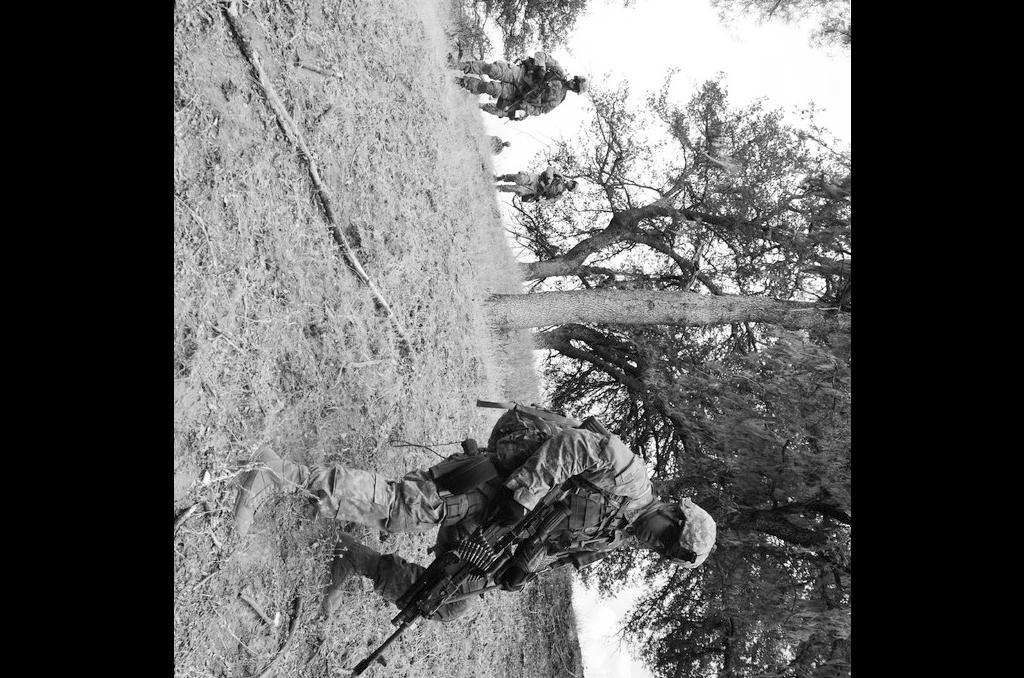gun: (345, 441, 571, 678), (503, 68, 556, 111), (527, 178, 559, 201)
